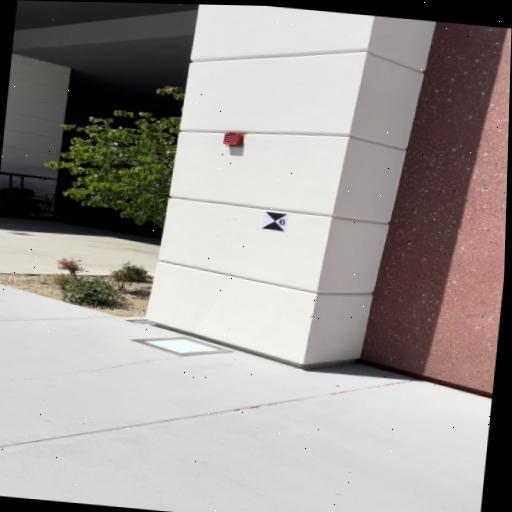target6: (261, 211, 288, 232)
